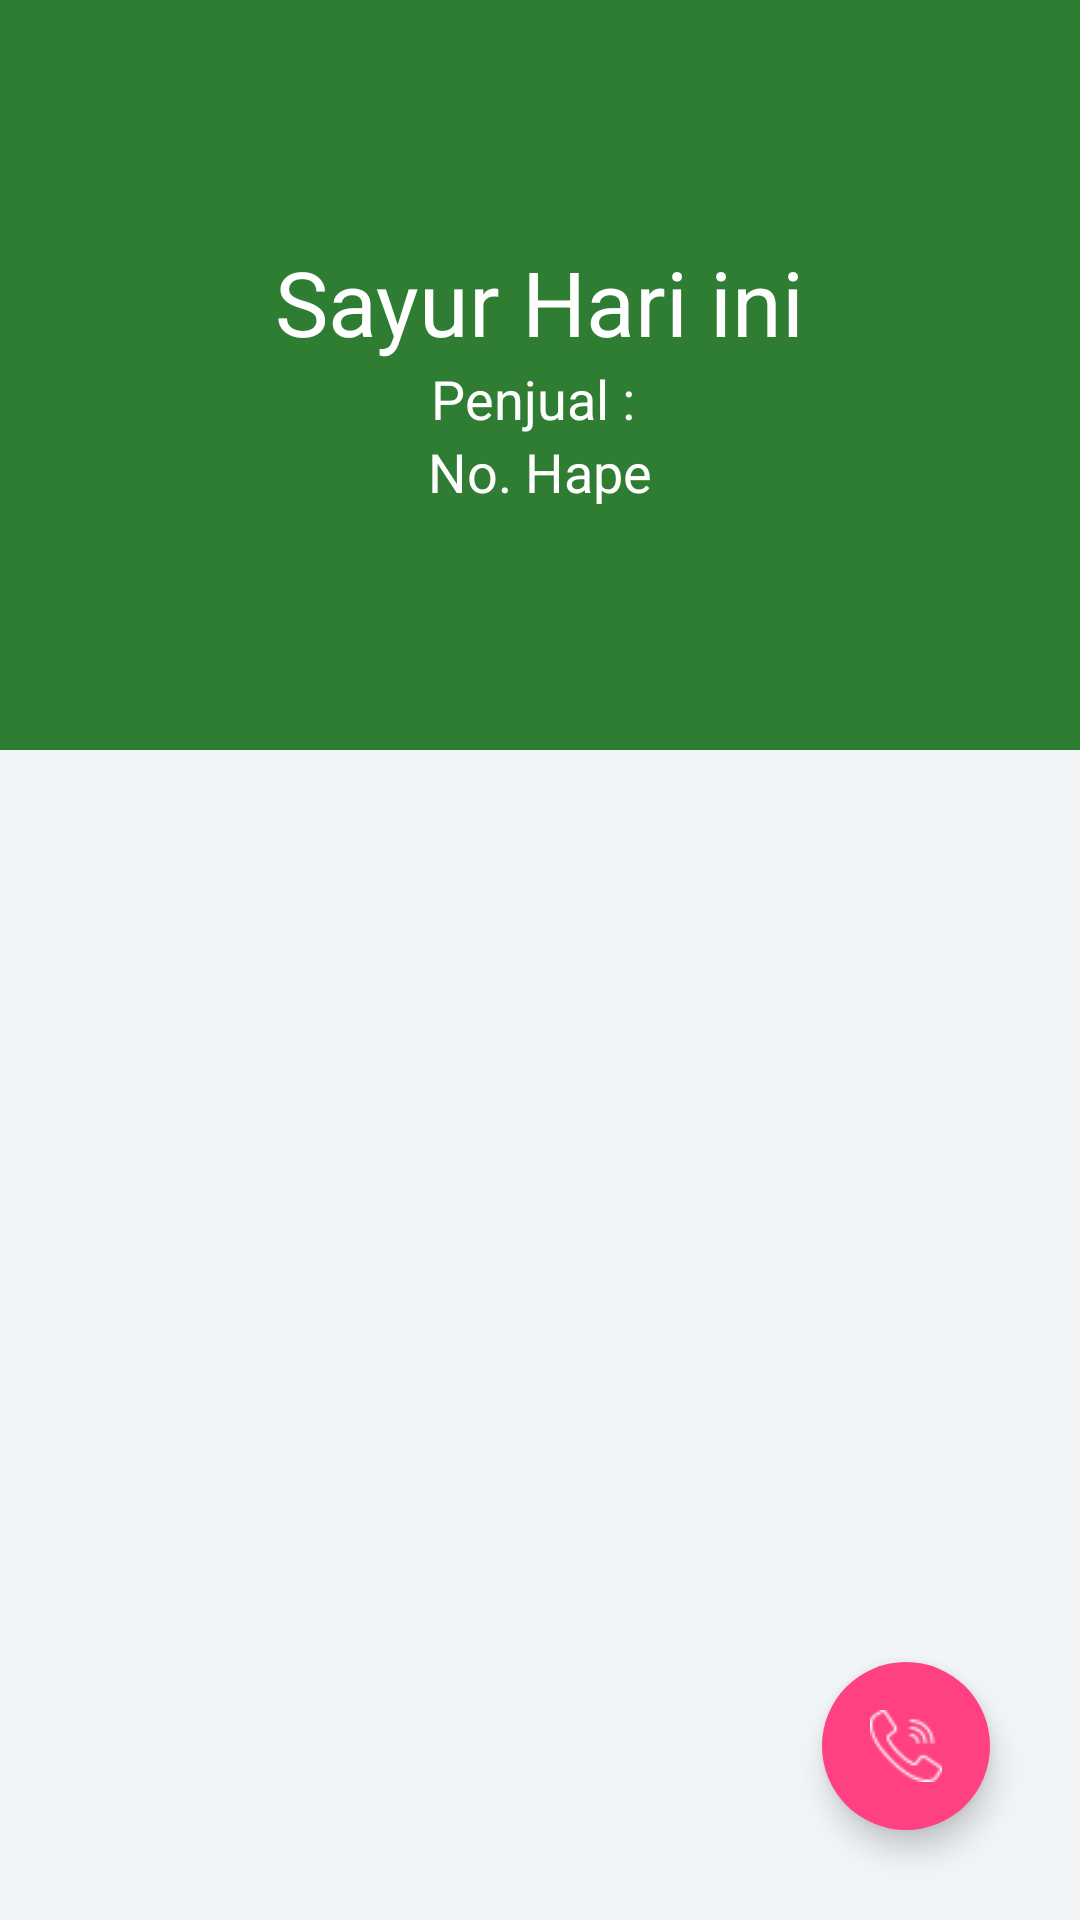

Icon click points for this 1080px×1920px phone screenshot, format [x,y]:
call: [906,1746]
